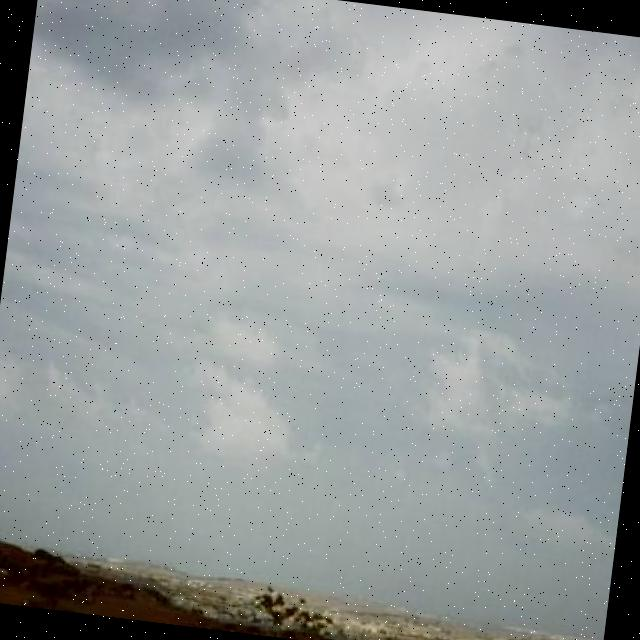St: (1, 1, 640, 556)
